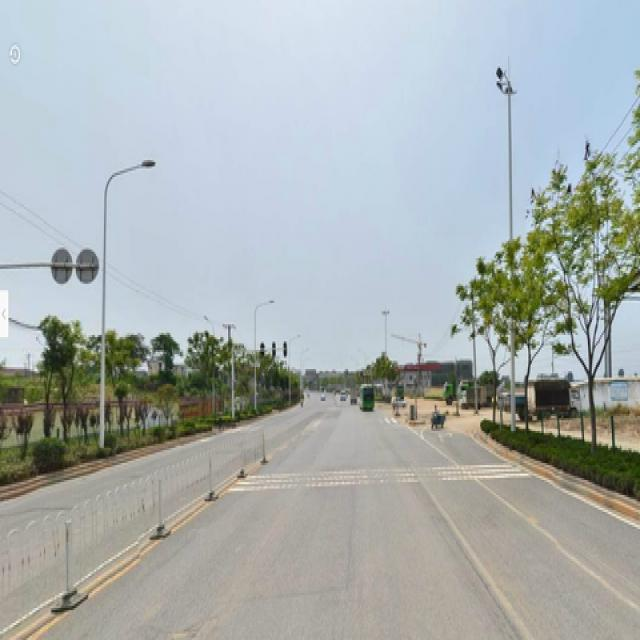koel: (557, 186, 612, 442), (513, 258, 548, 425), (476, 265, 508, 420), (183, 324, 213, 410)
